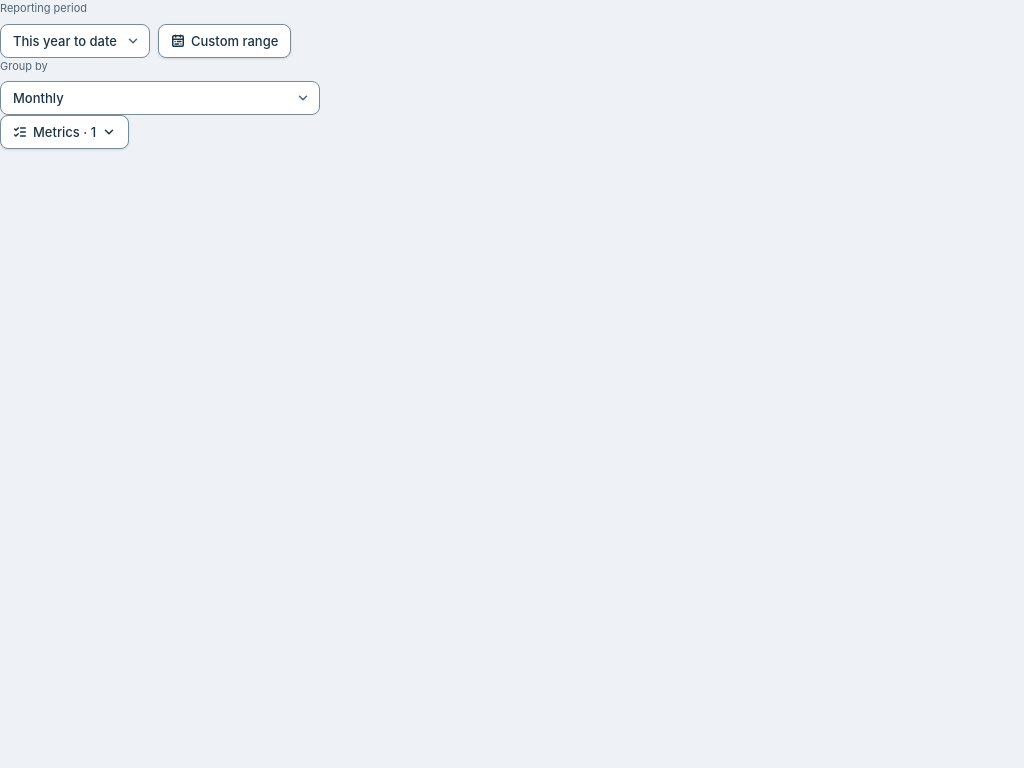
Scenario: retains rejected custom-date drafts in the shared Timeline controls
Click the button with aria-label "Custom range for Reporting period": (225, 40) top-left (158, 24), bottom-right (291, 58)
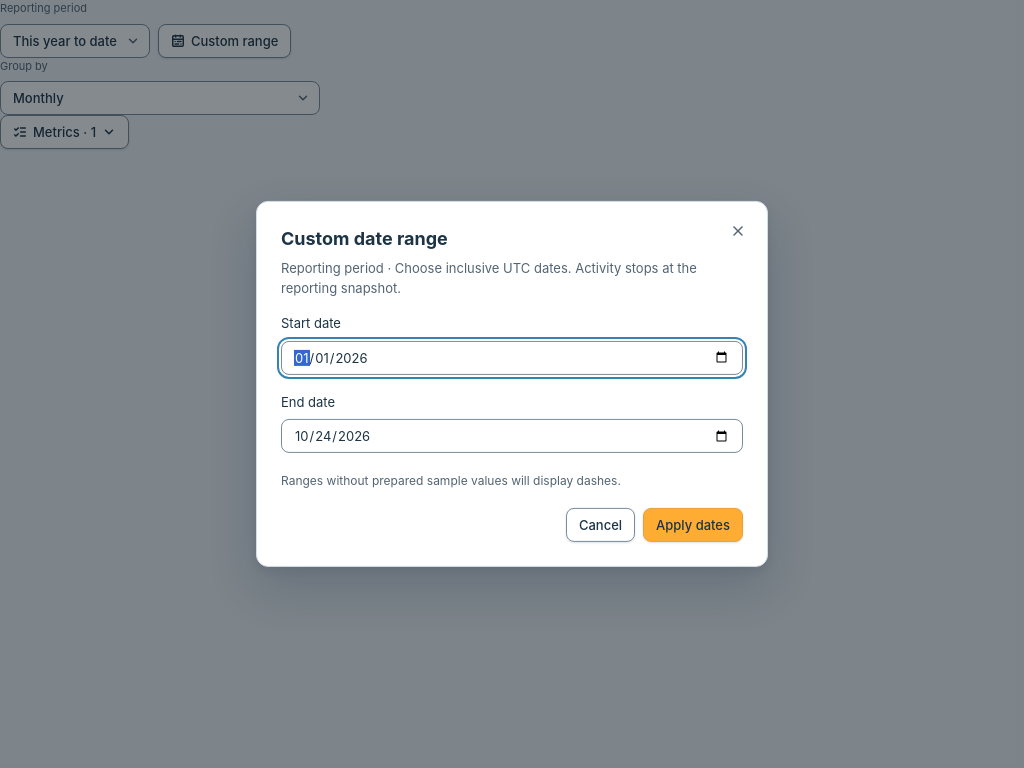
In the date field labelled "Start date": (512, 357) top-left (281, 340), bottom-right (743, 374), type "2020-01-01"
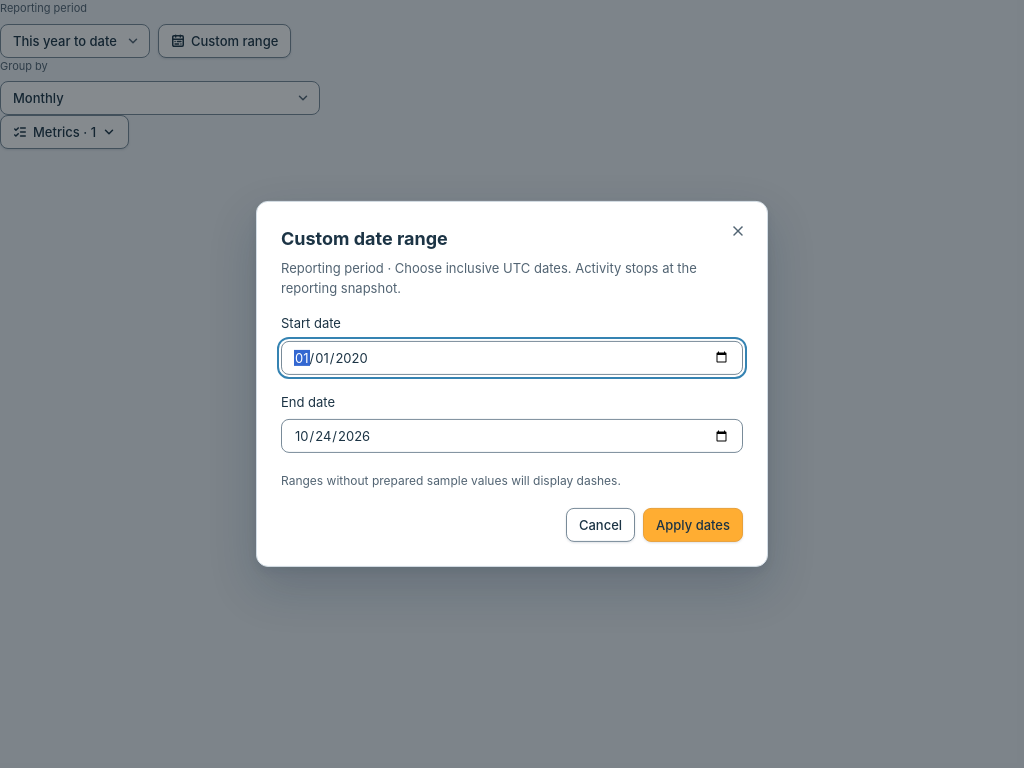
Click the button "Apply dates": (693, 525) top-left (643, 508), bottom-right (743, 542)
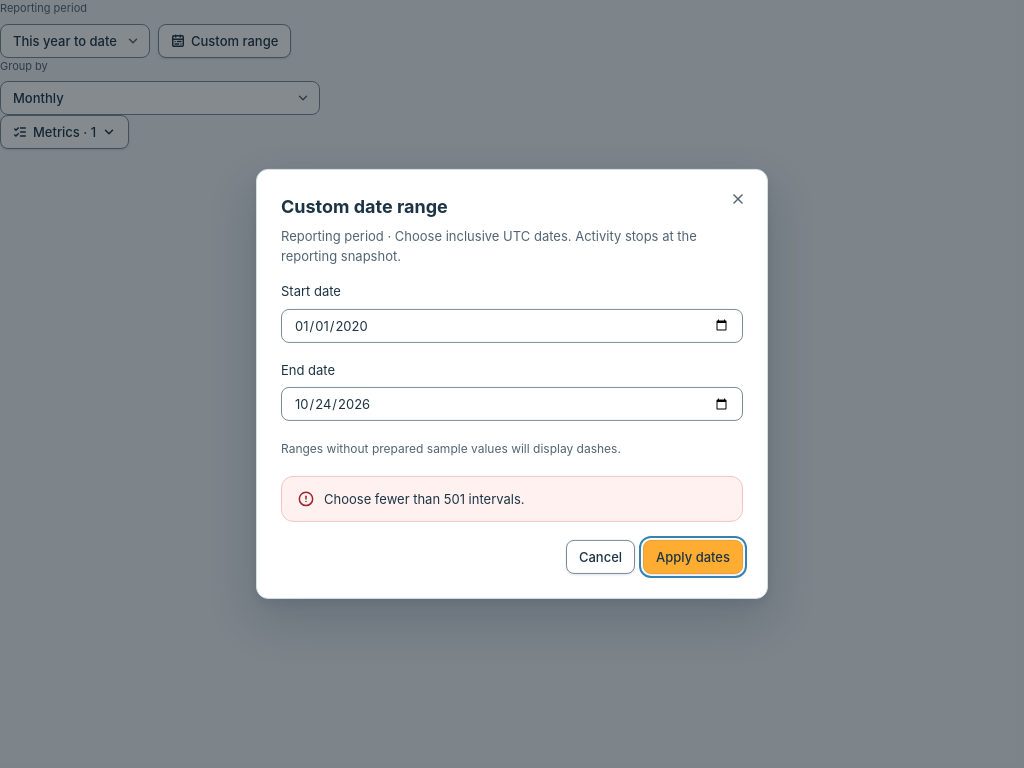
Now the dialog is shown, box top-left (256, 169), bottom-right (768, 599)
Now the message shows "501", box top-left (324, 491), bottom-right (524, 507)
